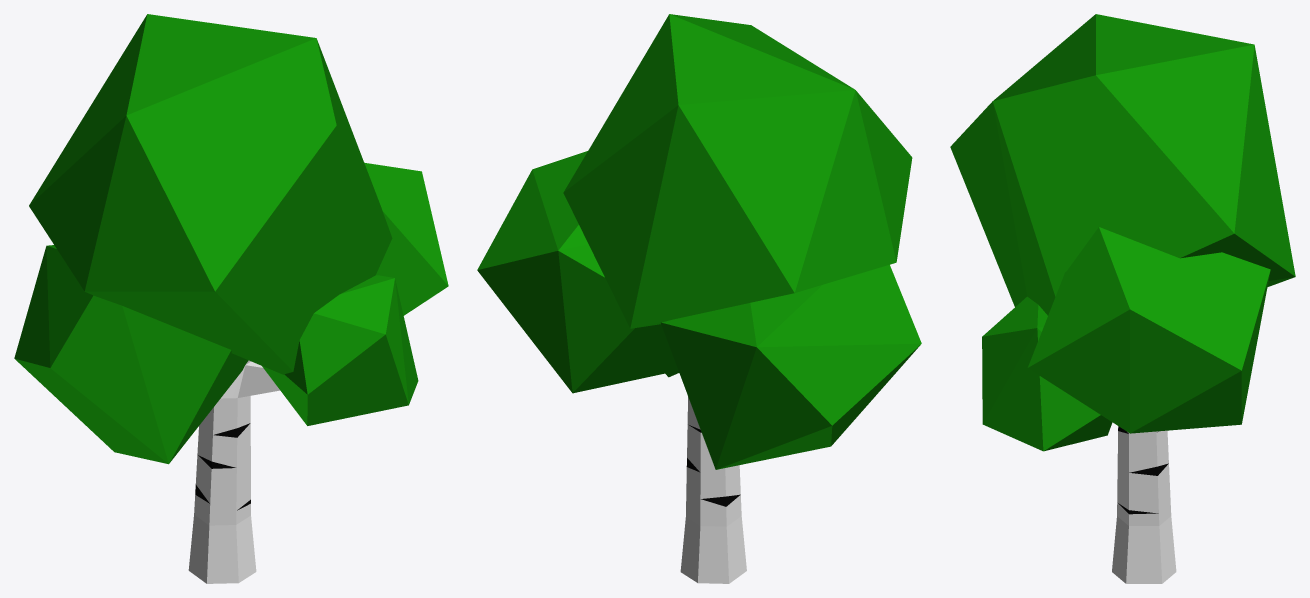
File: tree3.fbx
3 renders of one model, left to right at view 1: azimuth 30°, elevation 25°; view 2: azimuth 150°, elevation 25°; view 3: azimuth 270°, elevation 25°, orthographic. The views are drawn at different scales.
Parts seen in each view (by area): view 1: tree3; view 2: tree3; view 3: tree3.
Part boxes in pixels (box(x1,y1,x2,y2)): tree3: box(14, 14, 448, 583); tree3: box(477, 14, 921, 583); tree3: box(950, 14, 1295, 583).
Bounding box in the file's own units: 4.54 × 6.02 × 3.55.
